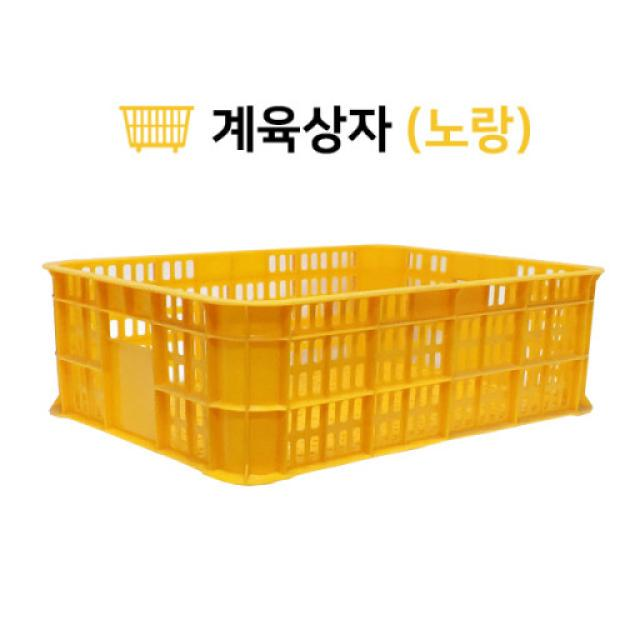basket: (43, 242, 604, 489)
